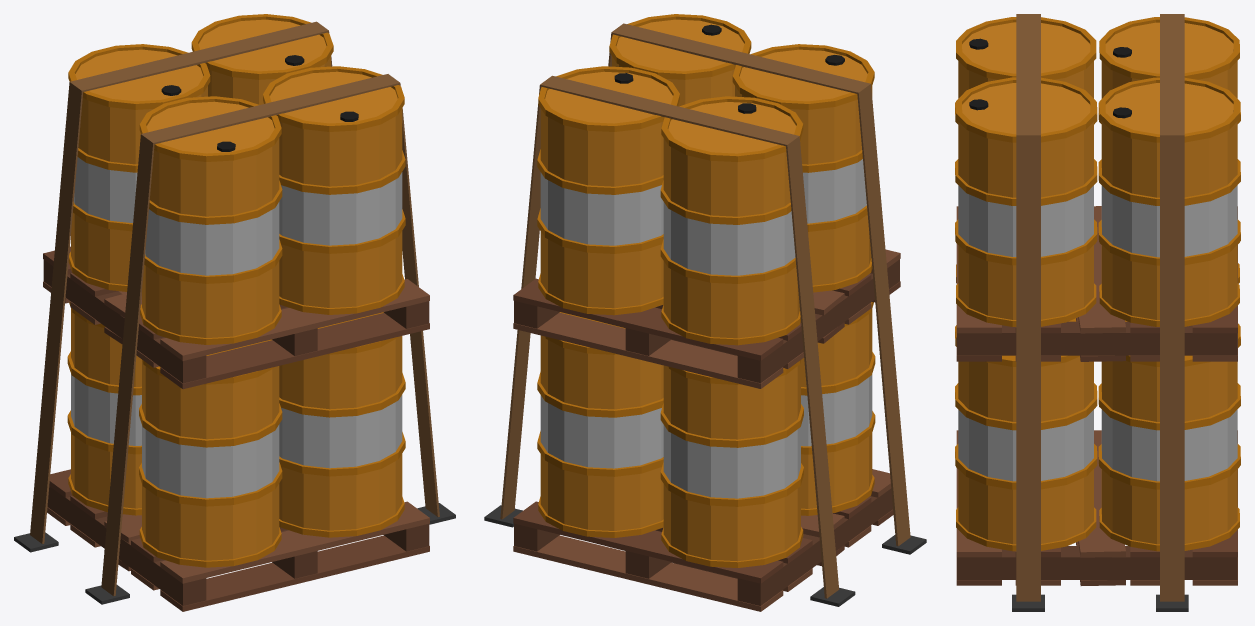
File: TrainPart_01.fbx
3 views of the same model, side by side, from view 1: azimuth 30°, elevation 25°; view 2: azimuth 150°, elevation 25°; view 3: azimuth 270°, elevation 25° (orthographic).
Parts seen in each view (by area): view 1: TrainPart_01; view 2: TrainPart_01; view 3: TrainPart_01.
Boxes of the visible parts, x1,y1,x2,y2 form: TrainPart_01: [14, 14, 455, 611]; TrainPart_01: [484, 14, 926, 611]; TrainPart_01: [955, 14, 1240, 611].
Size of the model in its own units: 173 by 208 by 120.
